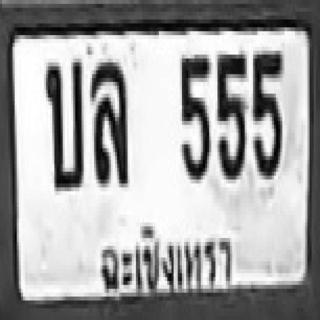A26: (44, 55, 82, 187)
A36: (91, 58, 126, 184)
N05: (178, 51, 209, 179), (215, 51, 245, 176), (251, 47, 280, 176)
P07: (96, 220, 238, 295)
